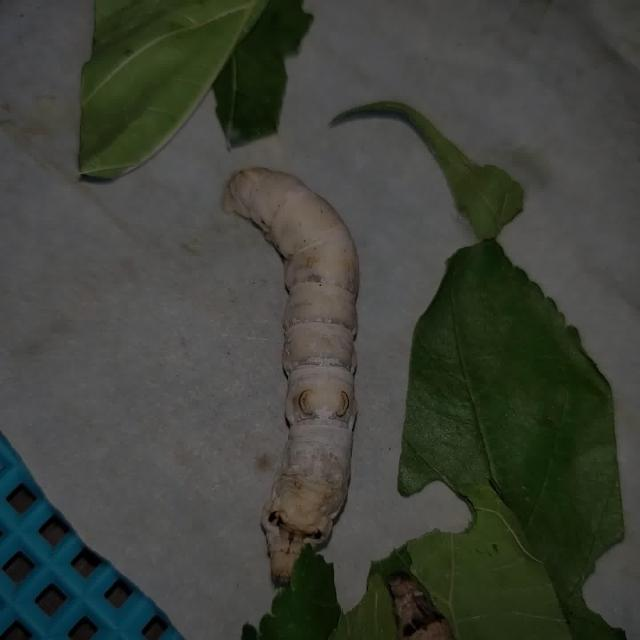Grasserie: (187, 132, 399, 616)
